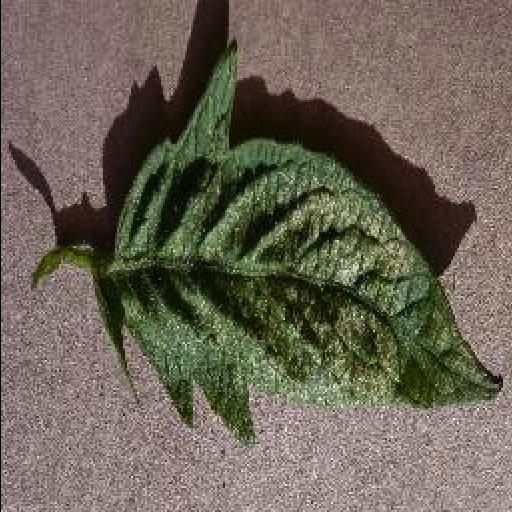disease_tomato: (109, 37, 503, 447)
